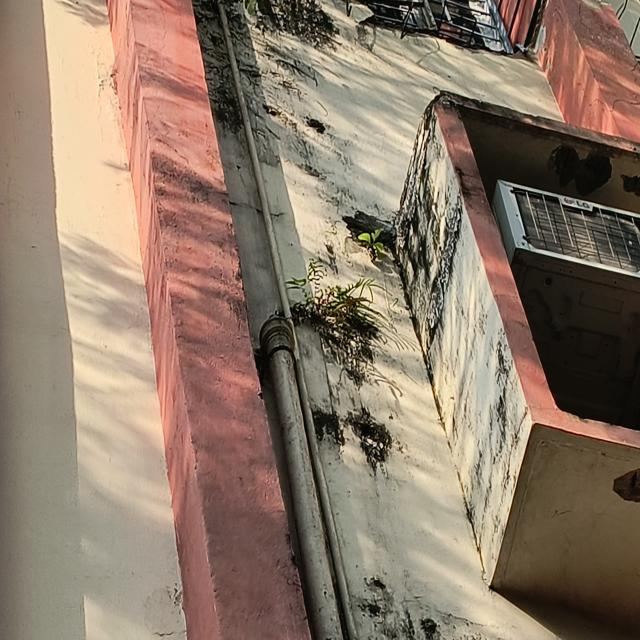crack: (574, 74, 640, 114), (154, 6, 170, 71), (628, 59, 640, 84)
spalling: (549, 145, 612, 196), (613, 468, 640, 503), (620, 175, 640, 197)
stain_mould: (390, 90, 640, 361), (194, 0, 354, 193), (285, 219, 387, 386), (352, 574, 505, 640), (312, 405, 414, 498)
